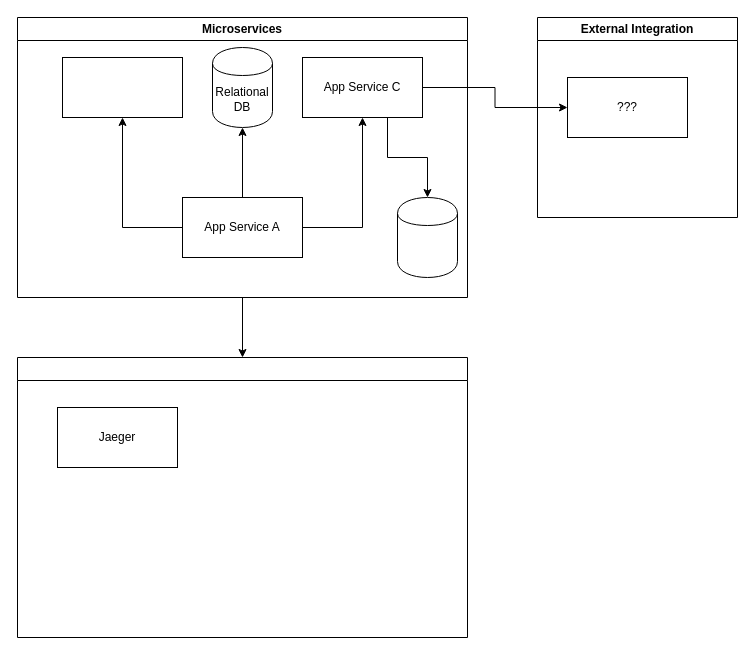
Some shapes in this 755 by 655 pixel diagram are drawn without their labels. The box of each missing label's shape, as (x1, y1, x2, y2) in pixels:
App Service B: (62, 56, 182, 118)
Cache DB: (396, 196, 458, 278)
Monitoring Backend Services: (16, 356, 468, 638)
